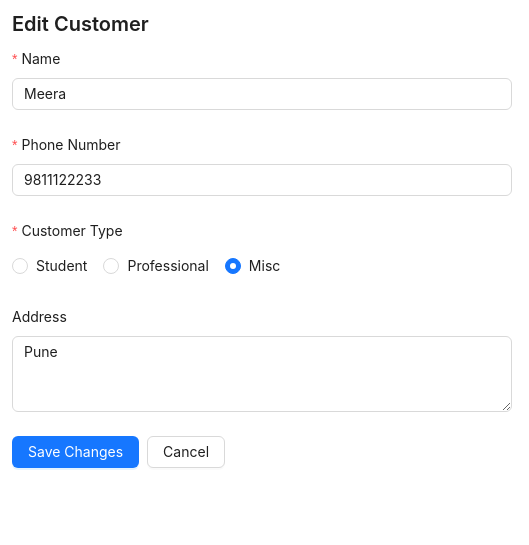
Test: EditCustomerPage › shows the server error message when the phone conflicts with another customer
Expected: the field showing "Meera" is shown, [12,78,512,110]
Click the button "Save Changes" at (76, 452), box [12,436,139,468]
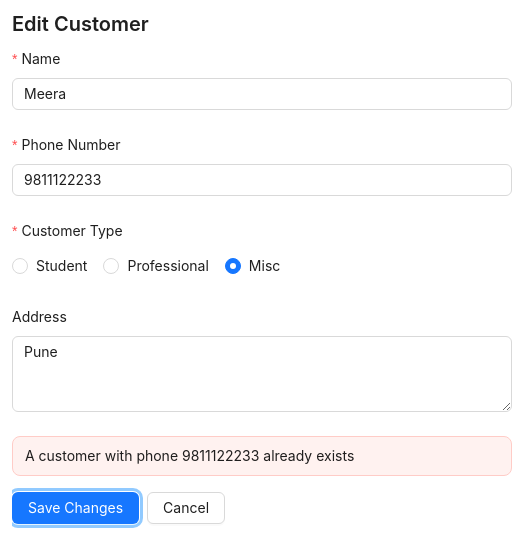
Expected: the text "A customer with phone 9811122233 already exists" is shown, [25,447,354,464]
